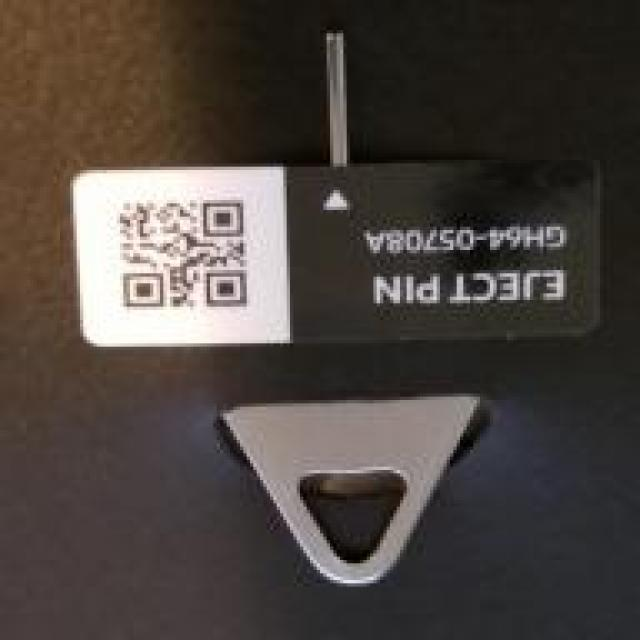QR_CODE: (108, 187, 267, 323)
